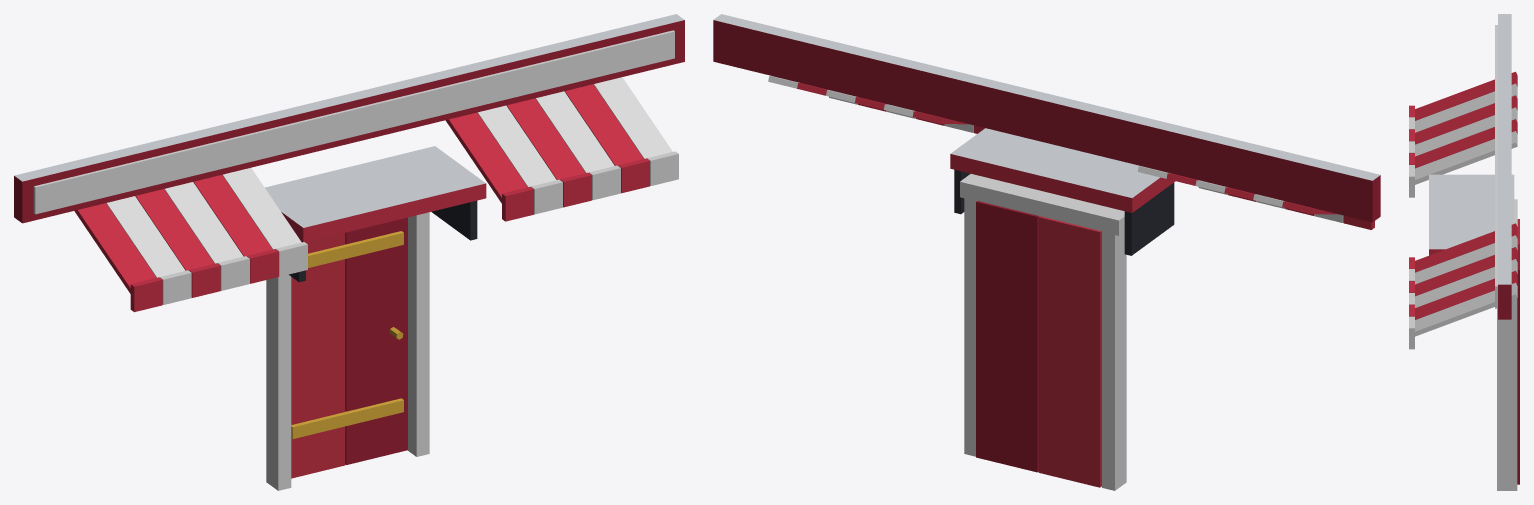
The model's file is Shop_Candy_Shopfront.glb.
3 renders of one model, left to right at view 1: azimuth 30°, elevation 25°; view 2: azimuth 150°, elevation 25°; view 3: azimuth 270°, elevation 25°, orthographic. The views are drawn at different scales.
Visible parts, largest first — view 1: Shop_Candy_Shopfront; view 2: Shop_Candy_Shopfront; view 3: Shop_Candy_Shopfront.
Boxes of the visible parts, <box> form: Shop_Candy_Shopfront: <box>14,14,684,490</box>; Shop_Candy_Shopfront: <box>713,14,1380,490</box>; Shop_Candy_Shopfront: <box>1409,14,1519,490</box>.
Bounding box in the file's own units: 23.2 × 12.43 × 4.02.
